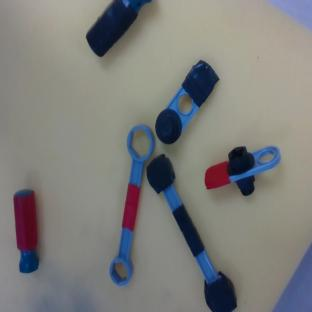part_1_bad: (146, 57, 224, 148)
part_1_good: (198, 123, 286, 212)
part_2_good: (14, 189, 39, 273)
part_3_bad: (137, 152, 244, 312)
part_3_good: (102, 122, 158, 287)
